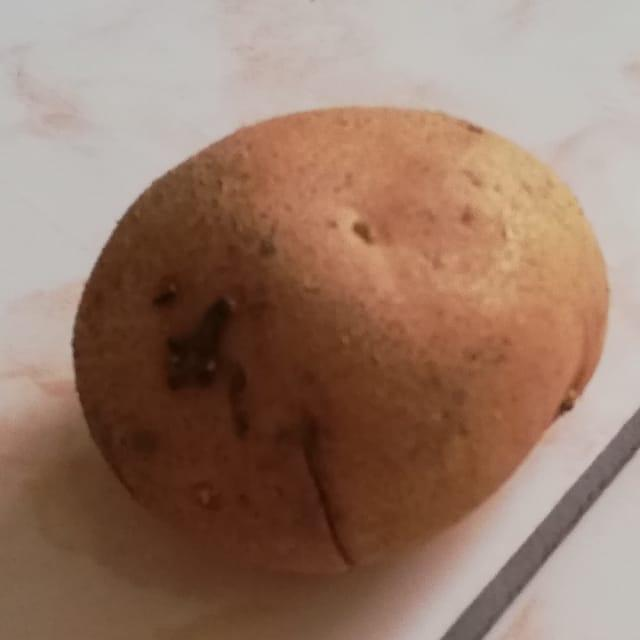potato: (59, 89, 625, 593)
